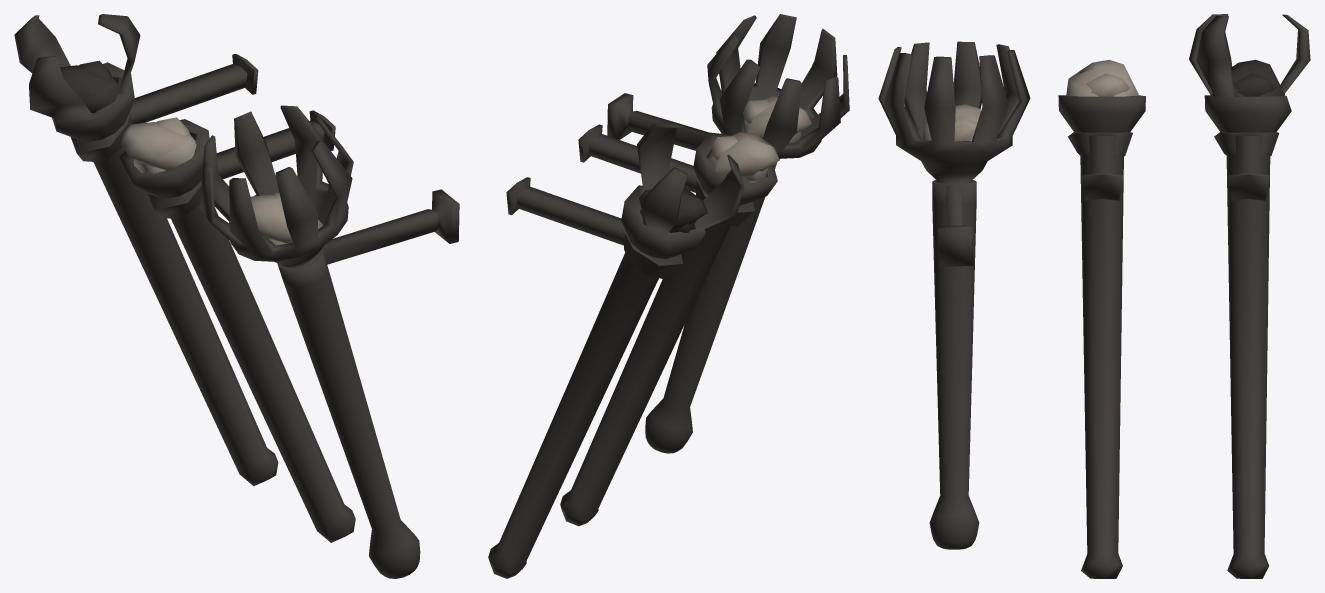
Rendered from Iron_Torch.fbx.
3 renders of one model, left to right at view 1: azimuth 30°, elevation 25°; view 2: azimuth 150°, elevation 25°; view 3: azimuth 270°, elevation 25°, orthographic. The views are drawn at different scales.
Visible parts, largest first — view 1: Torch_V2, Torch_V1, Torch; view 2: Torch_V1, Torch_V2, Torch; view 3: Torch_V2, Torch_V1, Torch.
Part boxes in pixels (x1,y1,x2,y2): Torch_V2: (199, 105, 459, 578); Torch_V1: (14, 14, 278, 486); Torch: (119, 110, 355, 542); Torch_V1: (488, 123, 744, 578); Torch_V2: (607, 14, 849, 453); Torch: (560, 124, 779, 526); Torch_V2: (878, 41, 1030, 549); Torch_V1: (1189, 14, 1310, 578); Torch: (1058, 59, 1145, 578).
Size of the model in its own units: 43.79 by 77.42 by 62.
